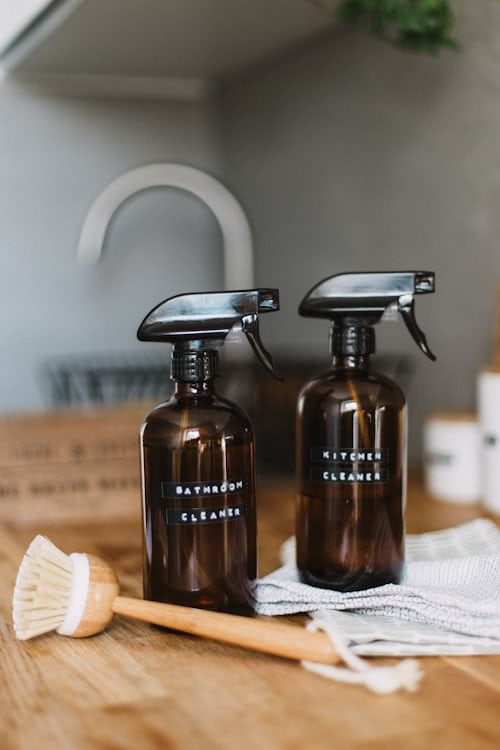Spray: (124, 275, 266, 639), (289, 265, 437, 598)
